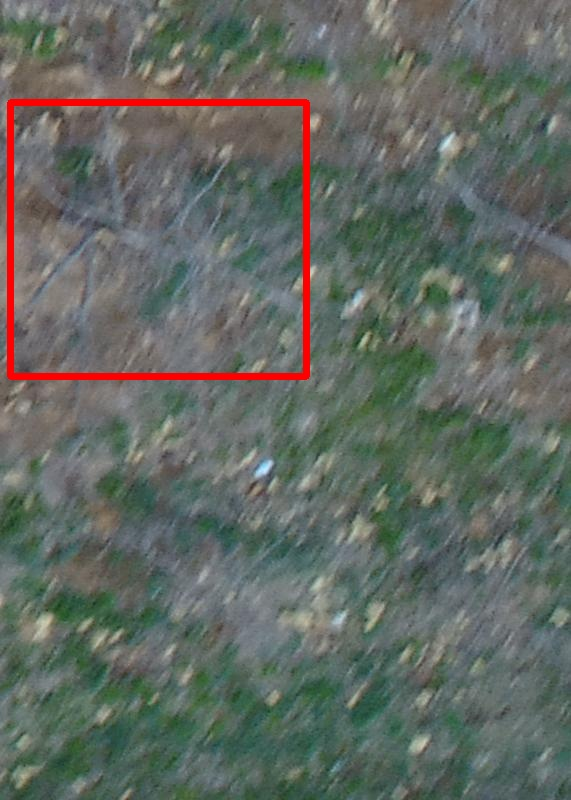apple: (10, 102, 306, 376)
